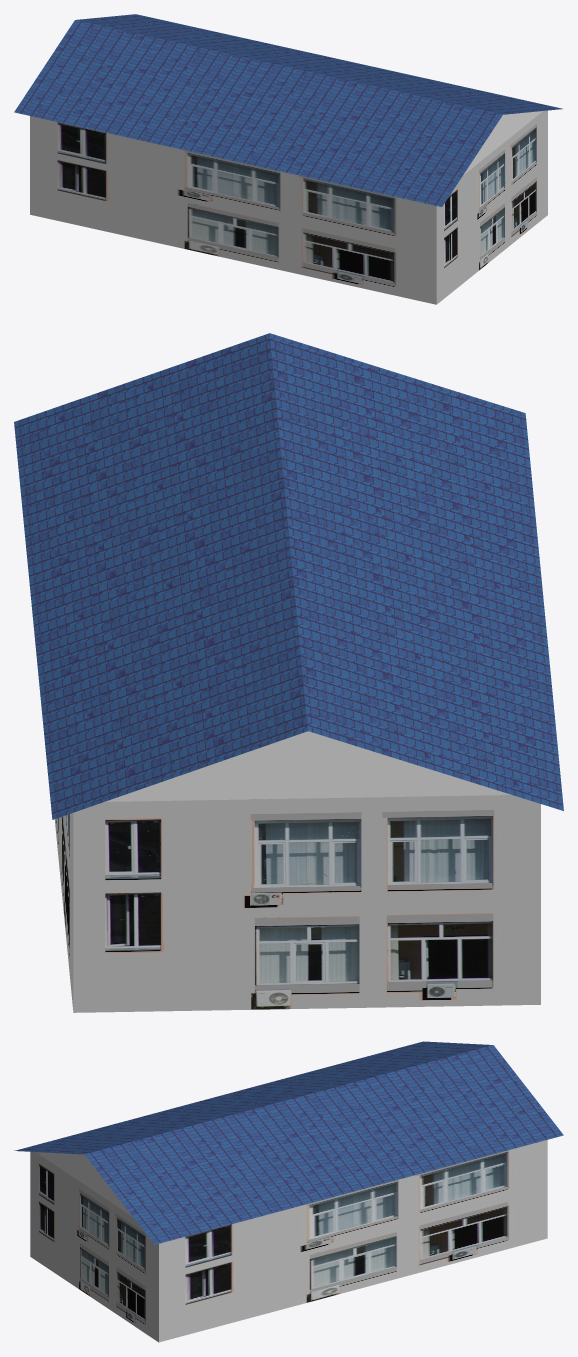
The picture shows the model from 3 angles, top to bottom: view 1: azimuth 30°, elevation 25°; view 2: azimuth 150°, elevation 25°; view 3: azimuth 270°, elevation 25°; orthographic projection. The views are drawn at different scales.
Visible parts, largest first — view 1: CityEngineMaterial_10_m, CityEngineMaterial_9_m, CityEngineMaterial_3_m; view 2: CityEngineMaterial_10_m, CityEngineMaterial_9_m, CityEngineMaterial_3_m; view 3: CityEngineMaterial_10_m, CityEngineMaterial_9_m, CityEngineMaterial_3_m.
Boxes of the visible parts, x1,y1,x2,y2 form: CityEngineMaterial_10_m: [14, 14, 562, 206]; CityEngineMaterial_9_m: [30, 110, 547, 304]; CityEngineMaterial_3_m: [463, 111, 542, 175]; CityEngineMaterial_10_m: [14, 333, 563, 819]; CityEngineMaterial_9_m: [54, 795, 540, 1012]; CityEngineMaterial_3_m: [105, 731, 511, 801]; CityEngineMaterial_10_m: [14, 1041, 563, 1244]; CityEngineMaterial_9_m: [30, 1140, 547, 1342]; CityEngineMaterial_3_m: [36, 1152, 132, 1216].
Size of the model in its own units: 40.03 by 13.56 by 45.73.
